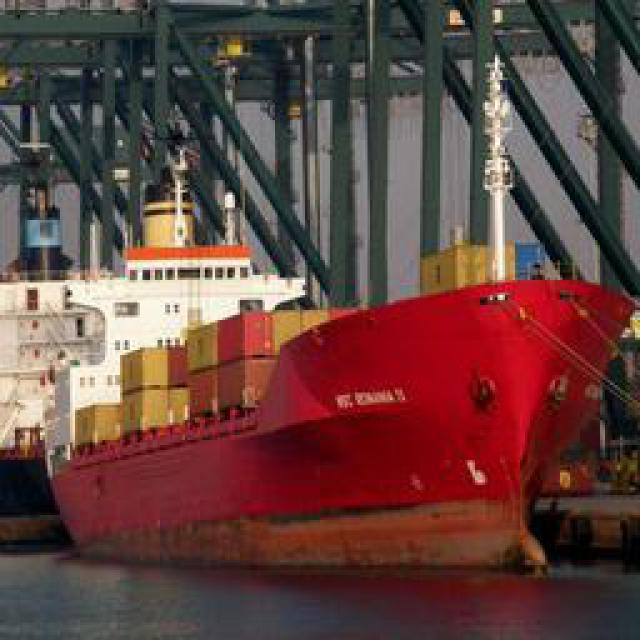Ship: (32, 249, 632, 582)
